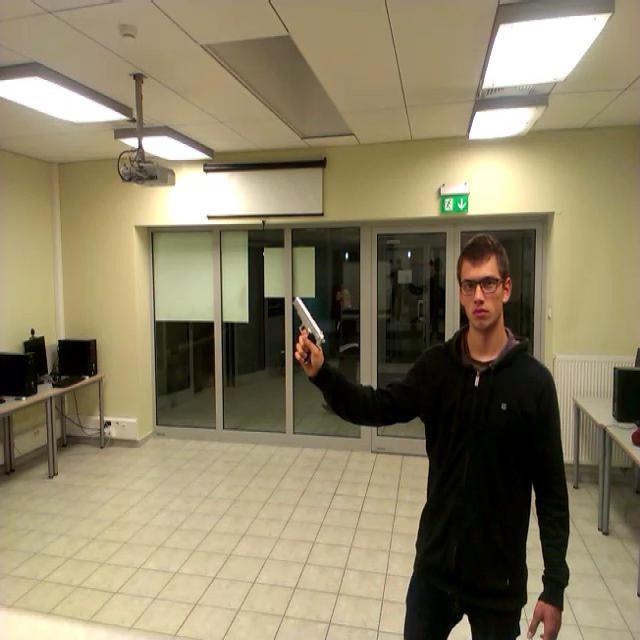weapon: (288, 296, 324, 365)
